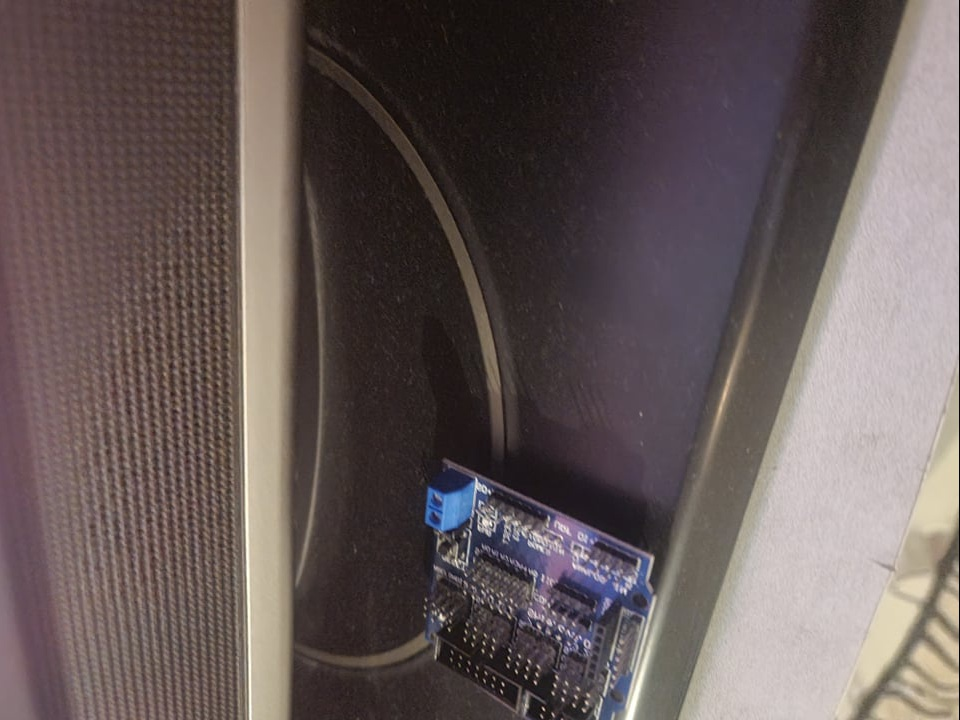5V EXPANSION: (426, 458, 660, 720)
